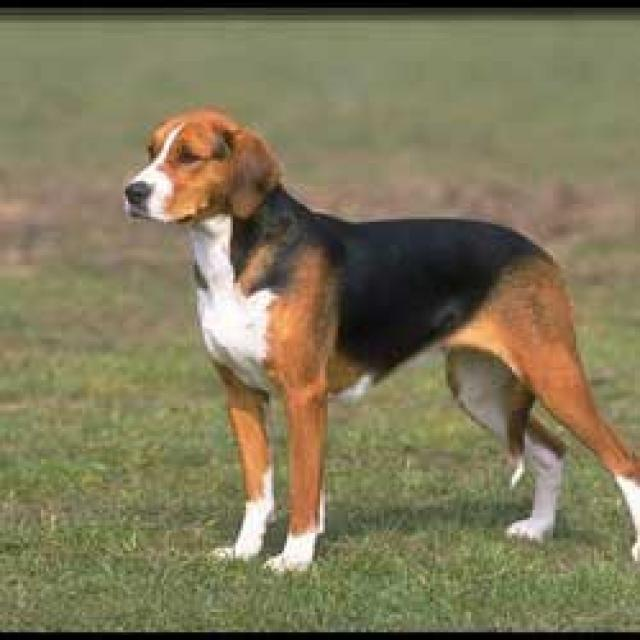good: (121, 99, 640, 610)
